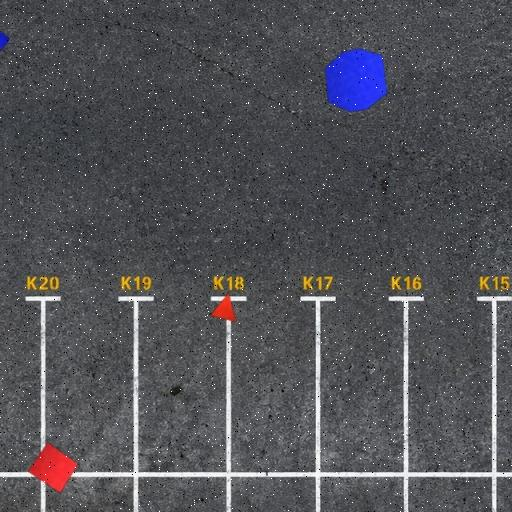RED_SQUARE: (27, 442, 79, 494)
